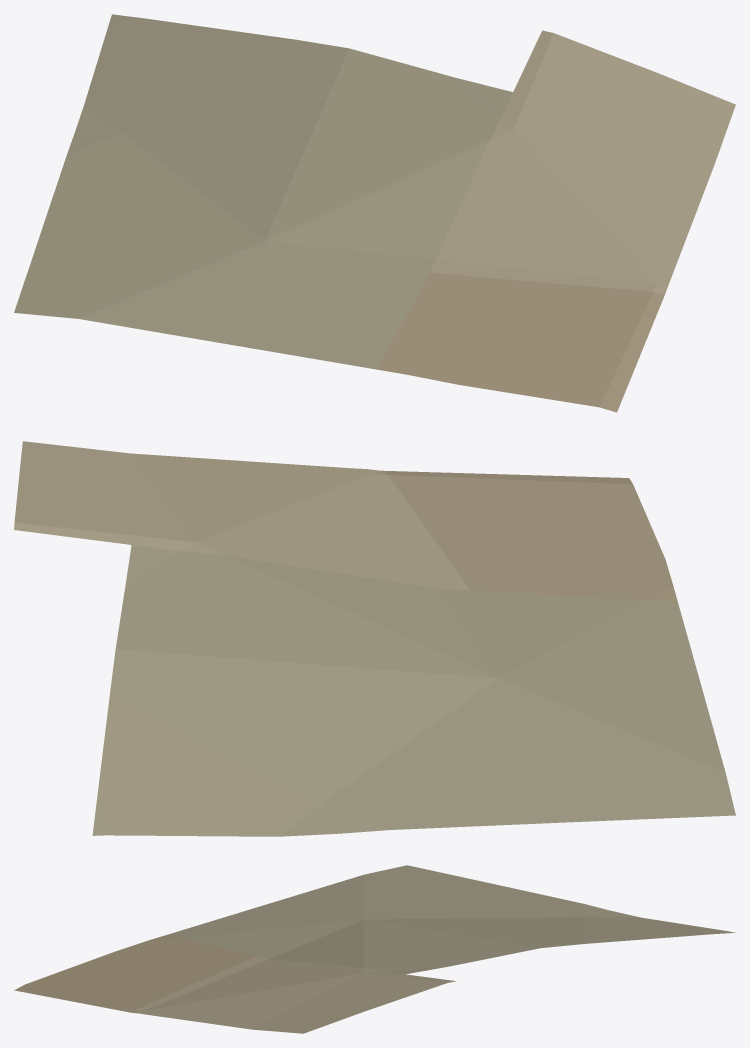
The model's file is farm_-29_-29_soil.glb.
The picture shows the model from 3 angles, top to bottom: view 1: azimuth 30°, elevation 25°; view 2: azimuth 150°, elevation 25°; view 3: azimuth 270°, elevation 25°; orthographic projection. The views are drawn at different scales.
Visible parts, largest first — view 1: geometry_0; view 2: geometry_0; view 3: geometry_0.
Part boxes in pixels (x1,y1,x2,y2): geometry_0: (14, 14, 735, 412); geometry_0: (14, 441, 735, 836); geometry_0: (14, 865, 735, 1033).
Bounding box in the file's own units: 210 × 37.57 × 264.
